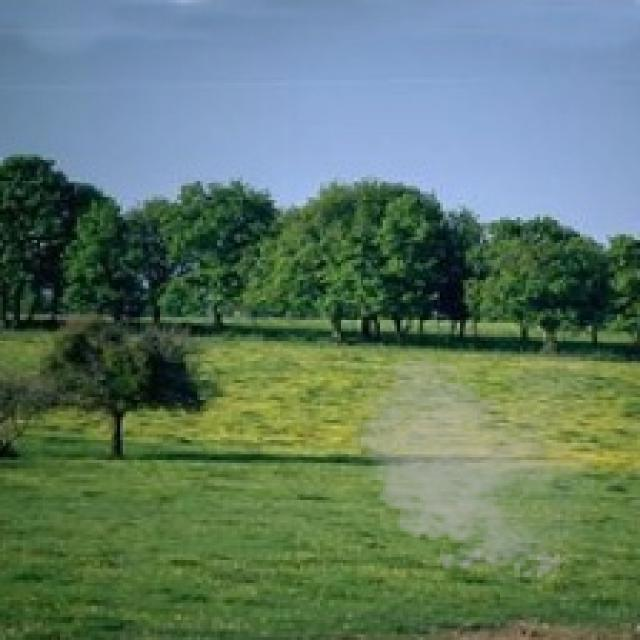smoke: (343, 348, 594, 586)
